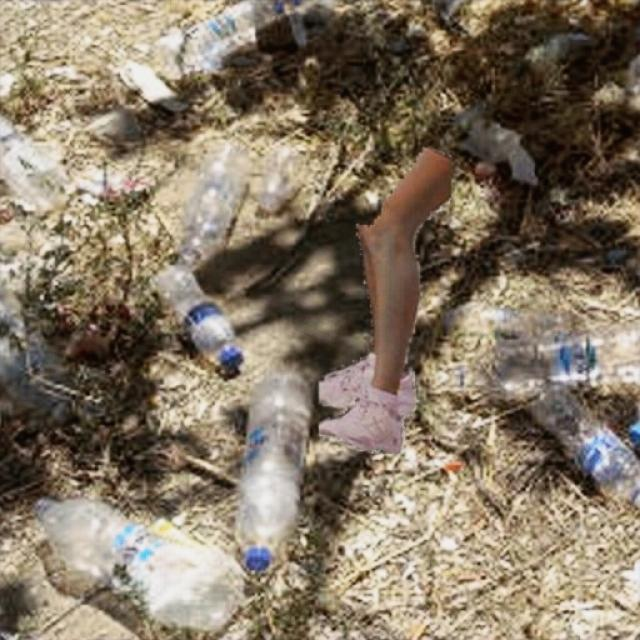Person in Rubble: (319, 145, 450, 453)
